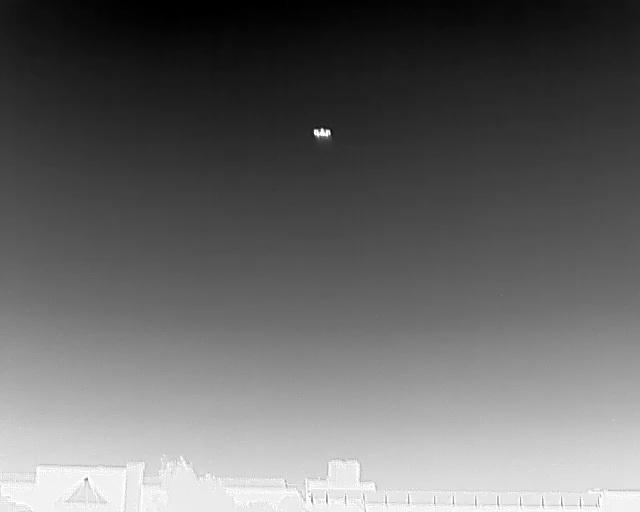fpv-drone: (313, 128, 331, 139)
